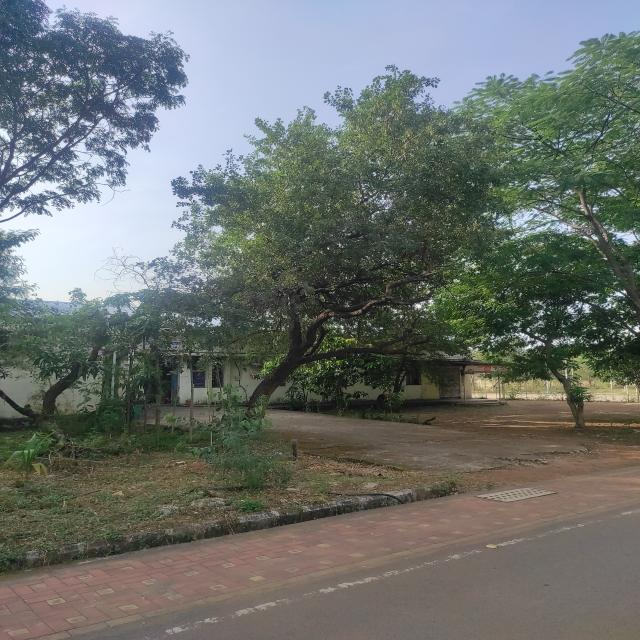Devakanchan tree: (232, 88, 454, 366)
